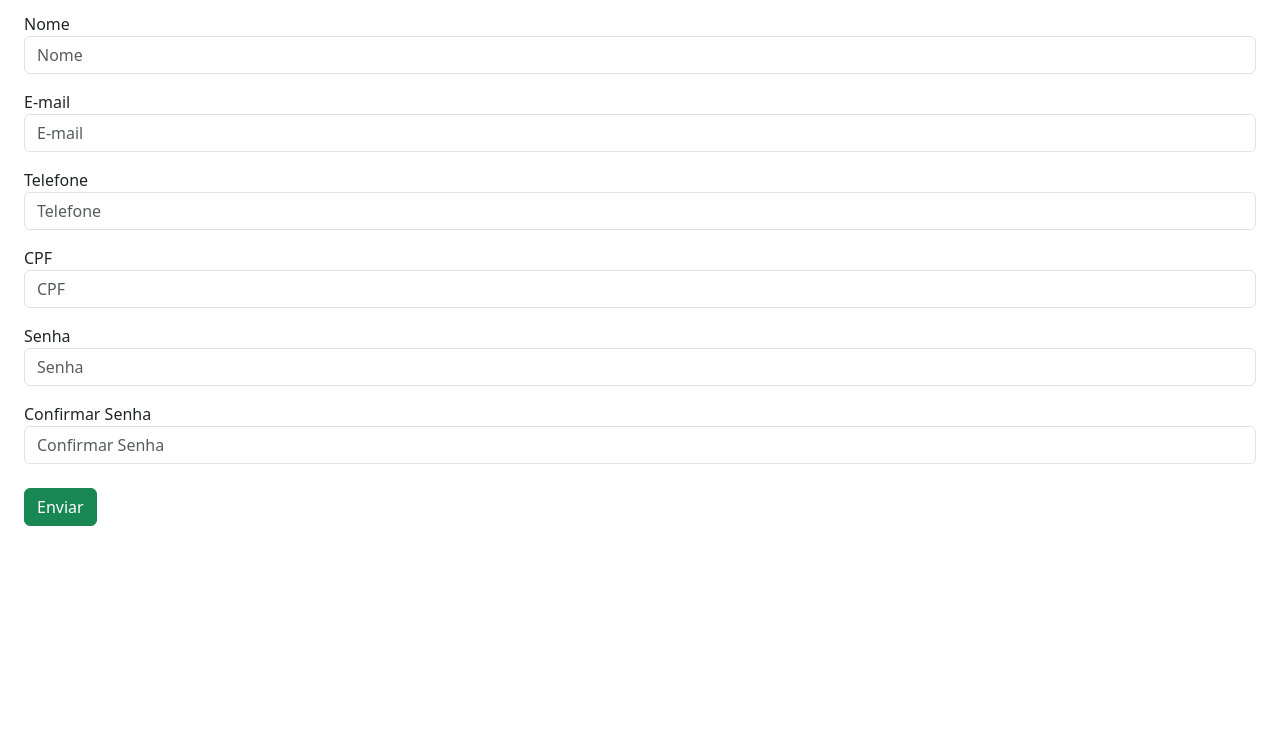
Test: register user › should show error when email is invalid
This screenshot has width=1280, height=732.
Type "Usuário teste" into the field with test id "name" at (640, 55), box [24,36,1256,74]
Type "invalid-email" into the field with test id "email" at (640, 133), box [24,114,1256,152]
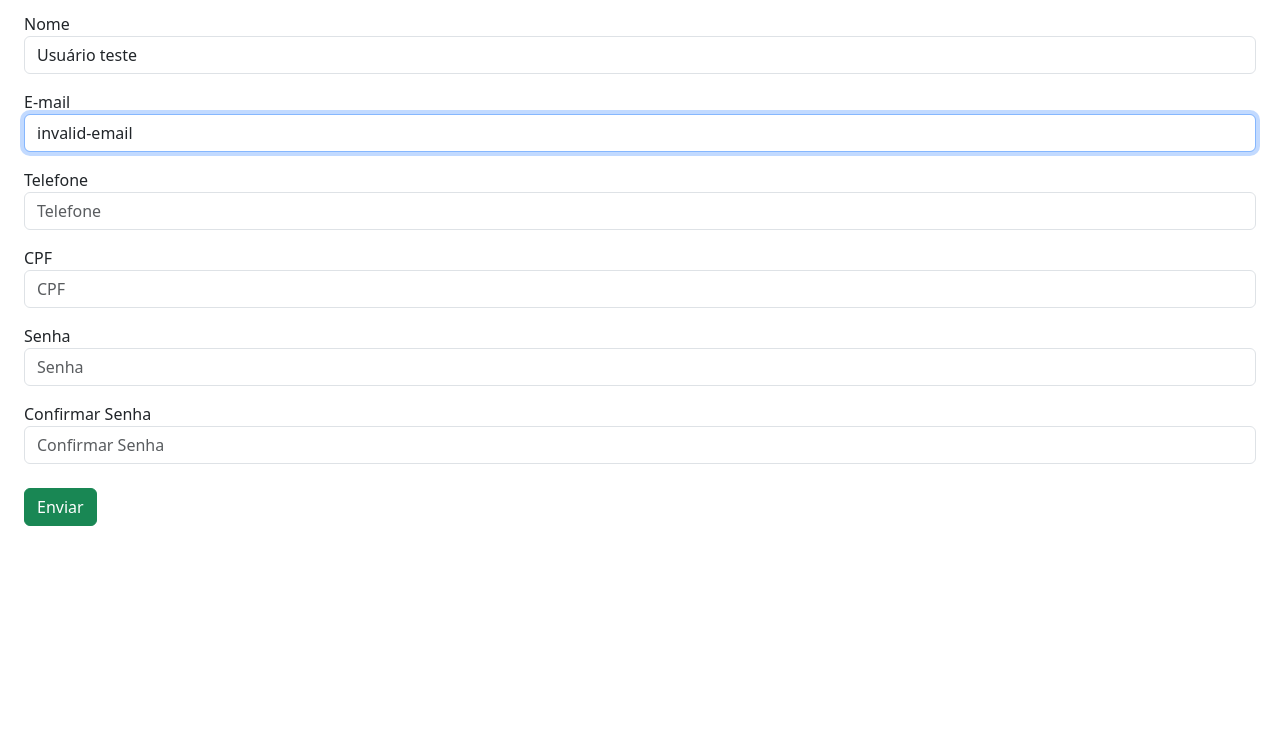
Type "85924117820" into the field with test id "phone" at (640, 211), box [24,192,1256,230]
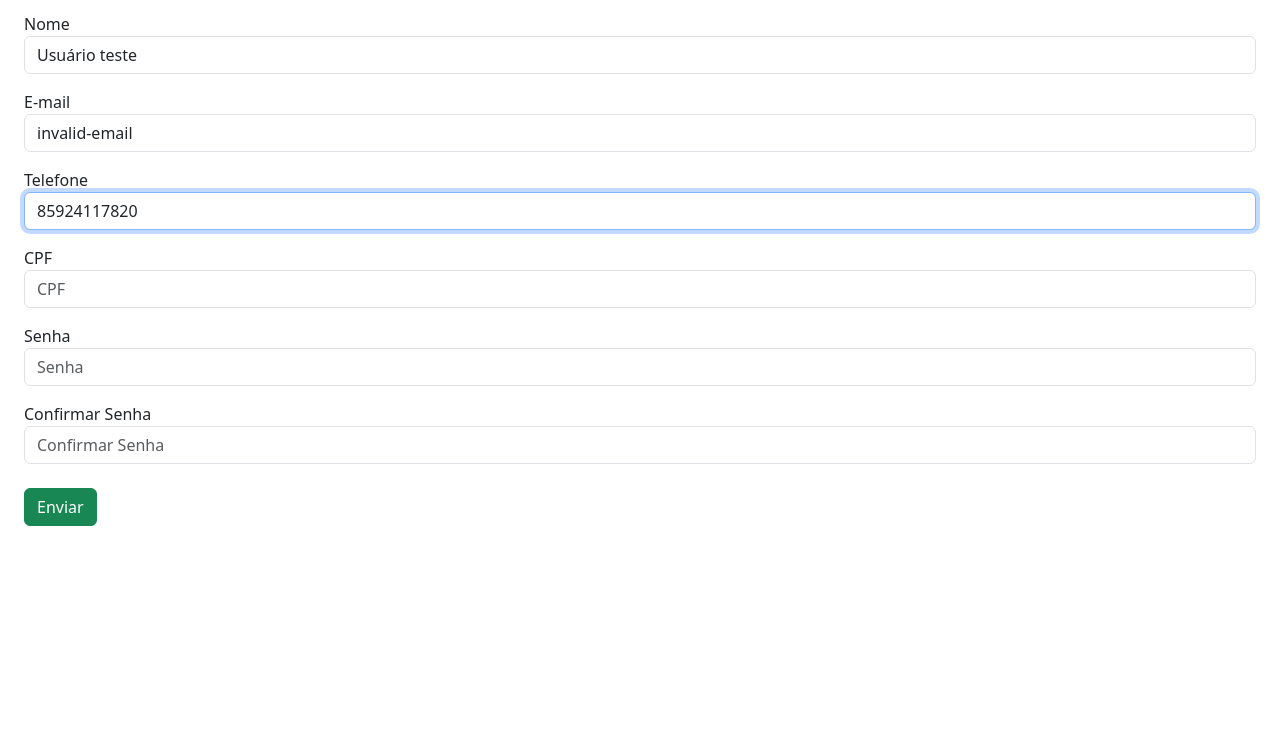
Type "54544140005" into the field with test id "identifier" at (640, 289), box [24,270,1256,308]
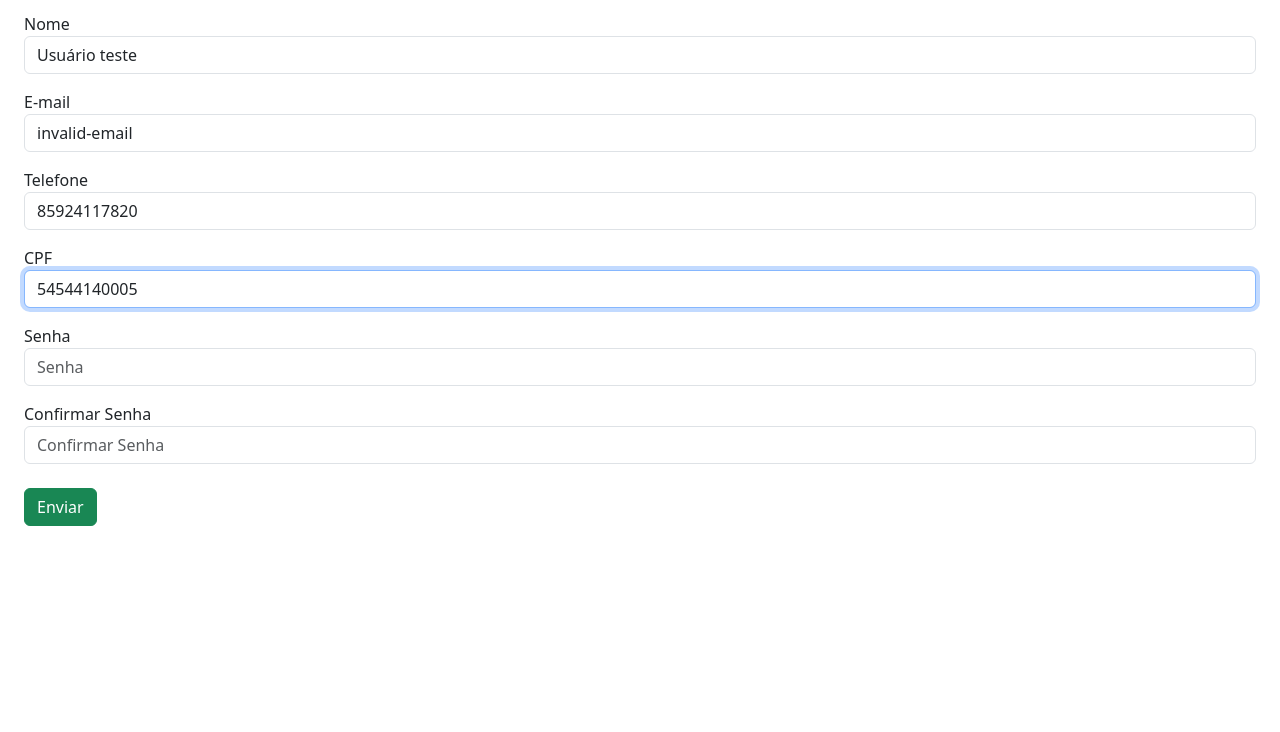
Type "senha123" into the password field with test id "password" at (640, 367), box [24,348,1256,386]
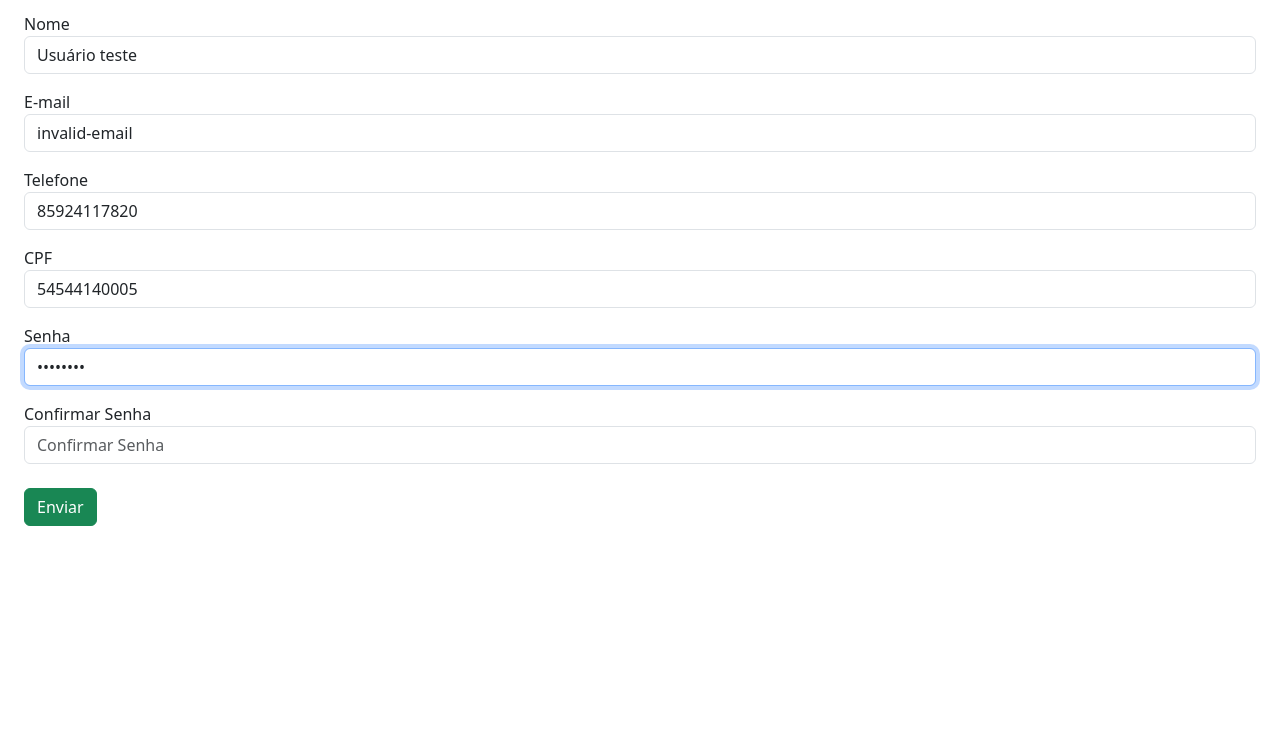
Type "senha123" into the password field with test id "confirmPassword" at (640, 445), box [24,426,1256,464]
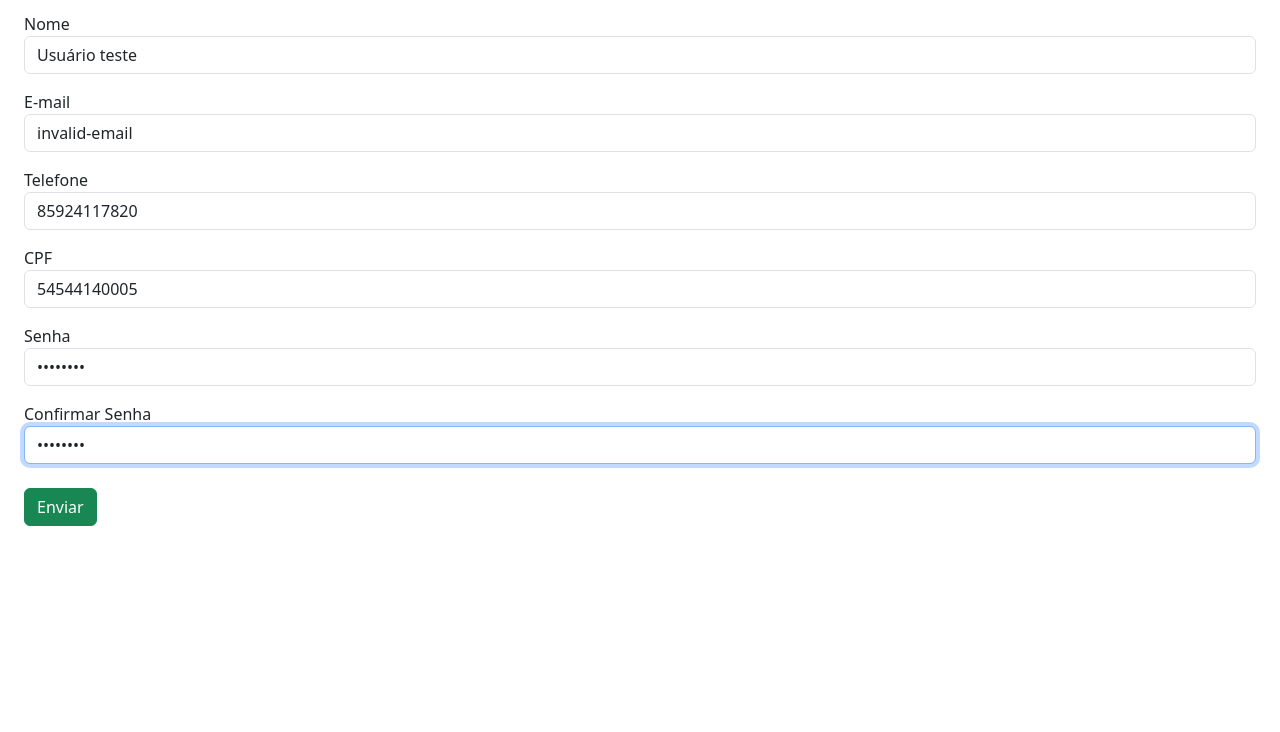
Submit the form
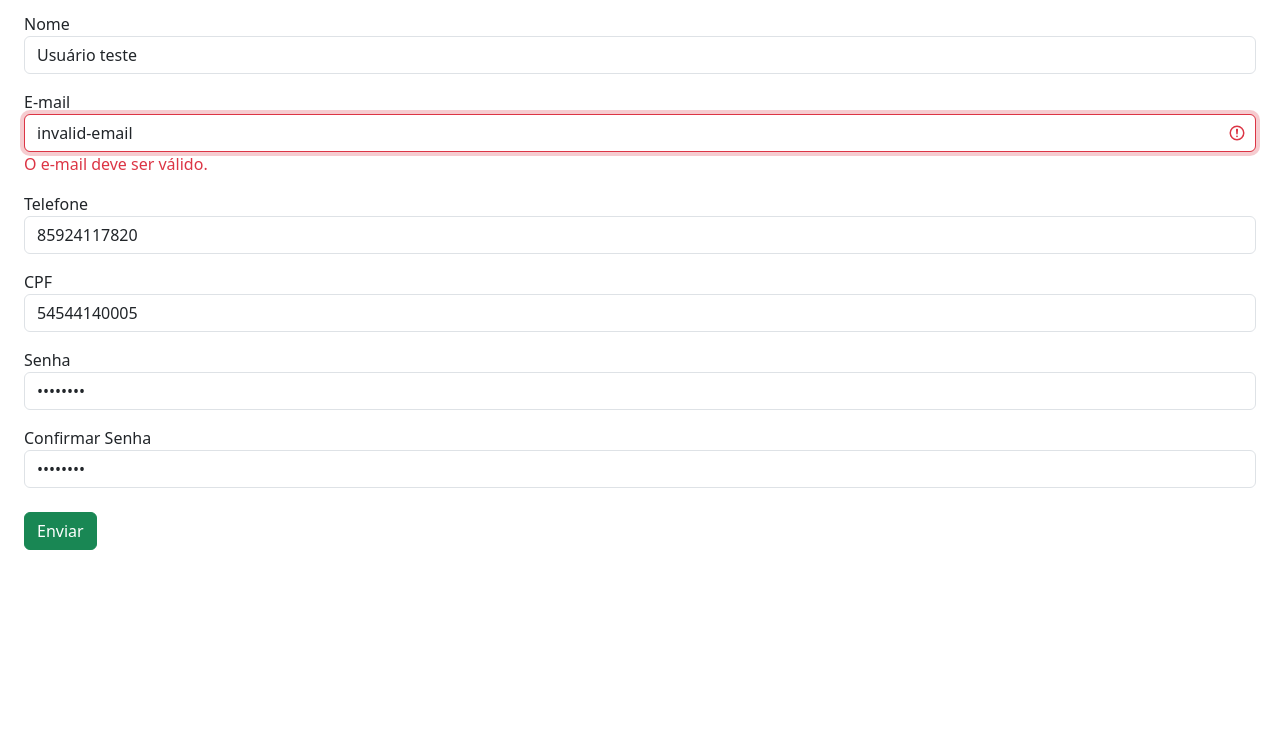
Result: the text with test id "email-error" reads "O e-mail deve ser válido." at [24,153,208,175]
